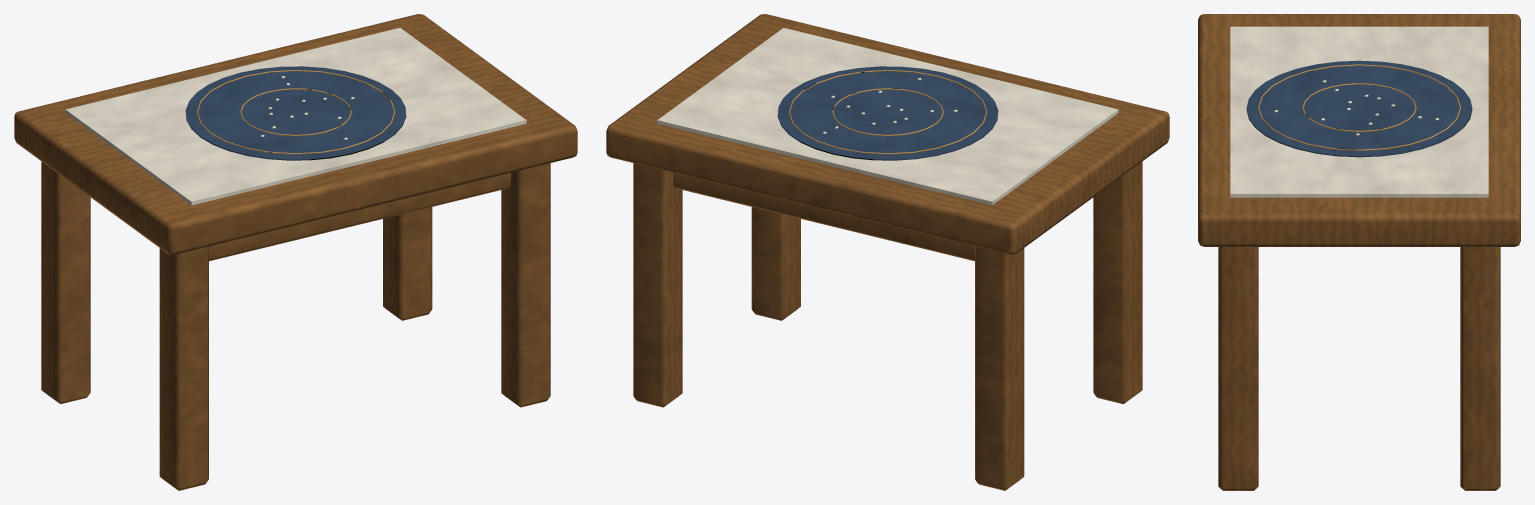
Rendered from Furn_StarChartTable.fbx.
The picture shows the model from 3 angles, left to right: view 1: azimuth 30°, elevation 25°; view 2: azimuth 150°, elevation 25°; view 3: azimuth 270°, elevation 25°; orthographic projection. The views are drawn at different scales.
Visible parts, largest first — view 1: Furn_StarChartTable_Mesh; view 2: Furn_StarChartTable_Mesh; view 3: Furn_StarChartTable_Mesh.
Boxes of the visible parts, left/top/right/bottom form: Furn_StarChartTable_Mesh: left=14, top=14, right=577, bottom=490; Furn_StarChartTable_Mesh: left=606, top=14, right=1169, bottom=490; Furn_StarChartTable_Mesh: left=1198, top=14, right=1520, bottom=490.
Bounding box in the file's own units: 1.2 × 0.803 × 0.8.
Materials: 4 (4 with a texture image).
